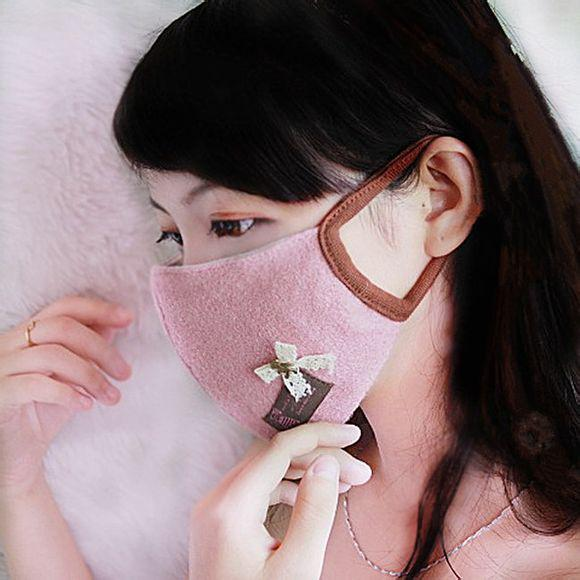OK: (154, 167, 431, 444)
